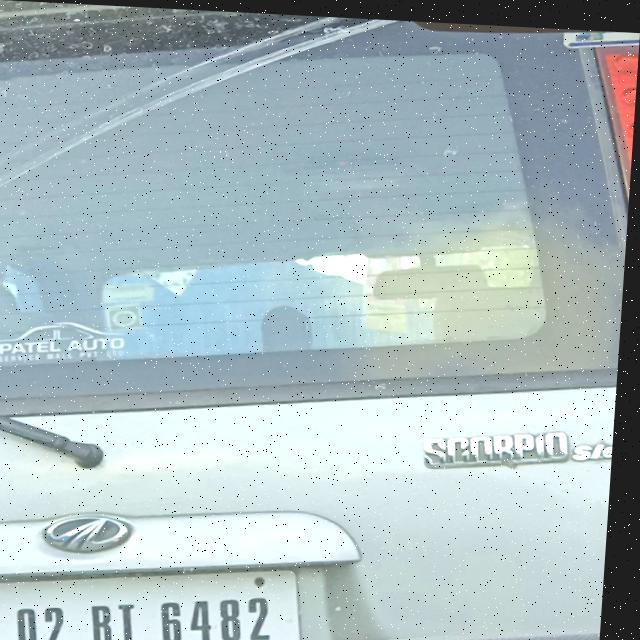plate: (0, 550, 315, 640)
